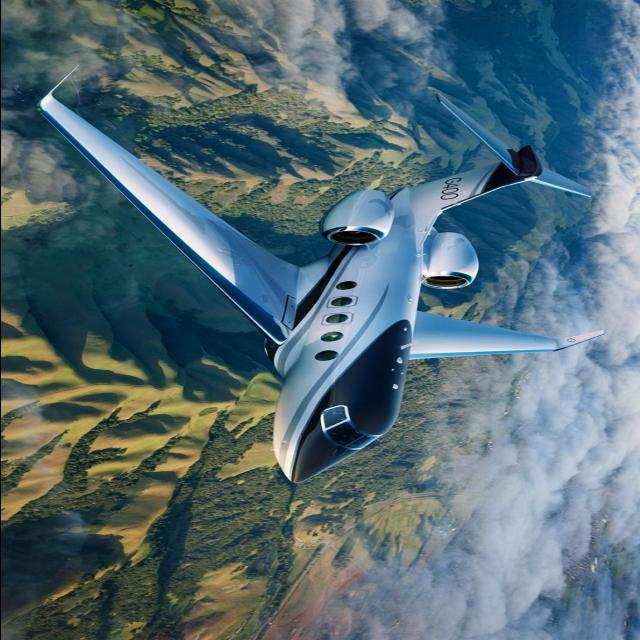aircraft: (8, 63, 622, 493)
